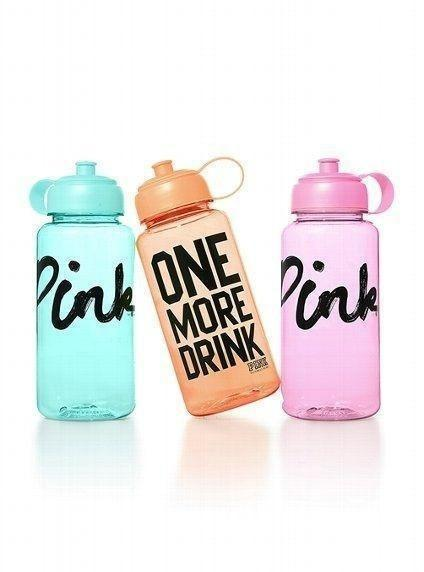gym bottle: (133, 152, 281, 420), (276, 157, 396, 423), (32, 160, 135, 422)
